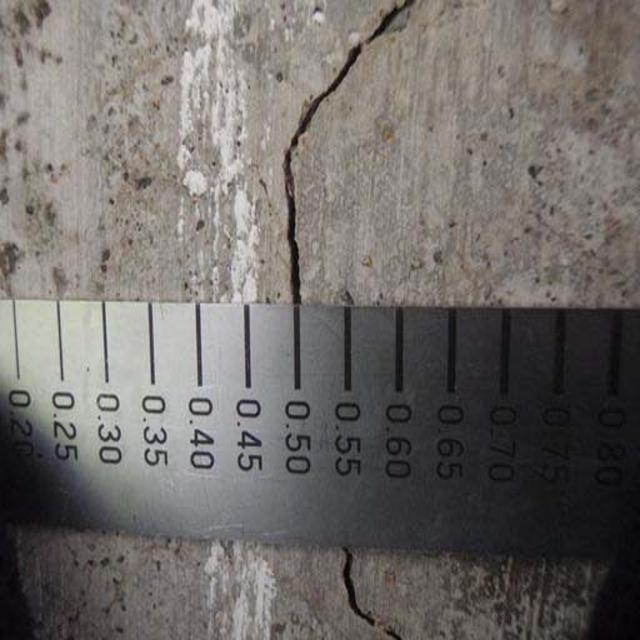crack: (263, 0, 427, 307), (302, 545, 430, 640)
